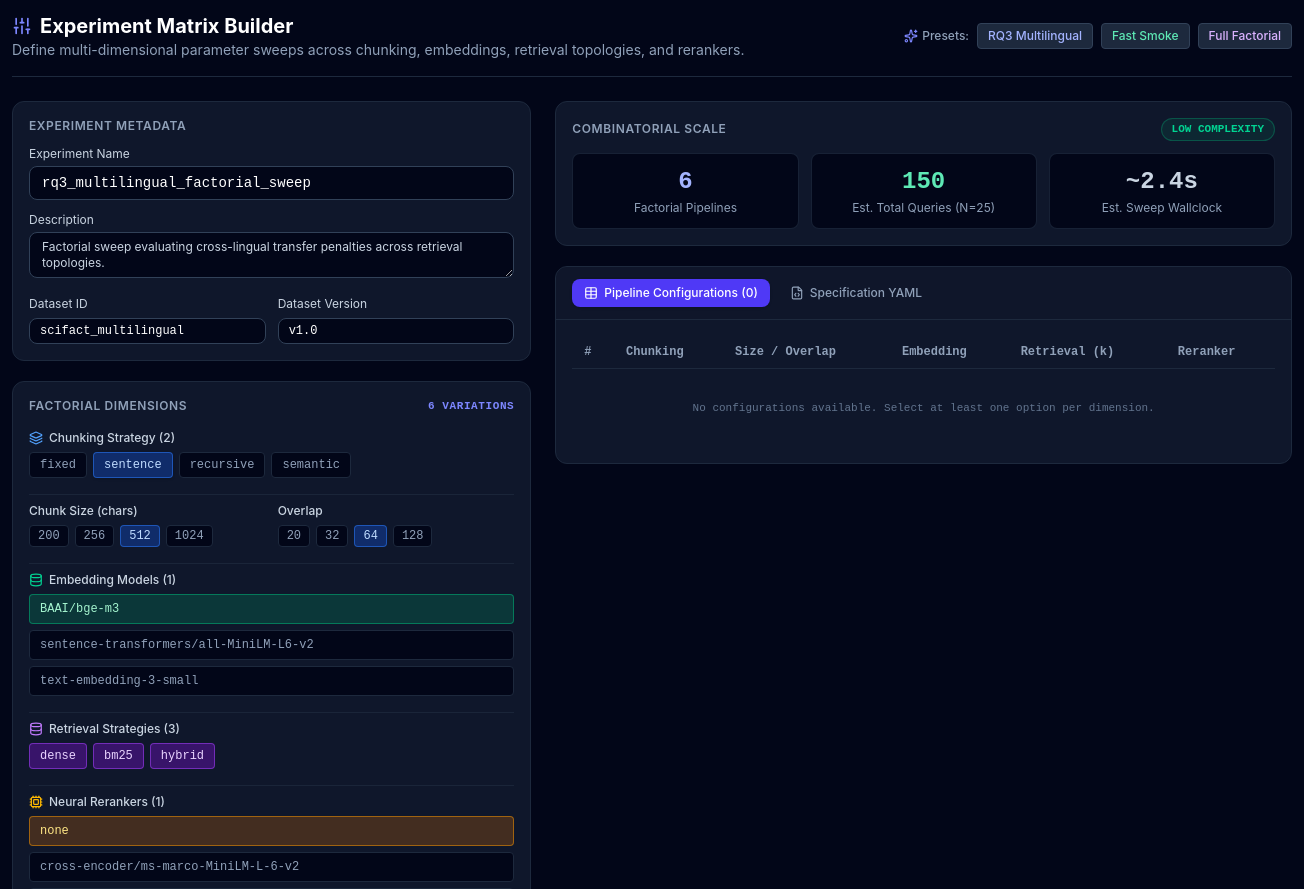
Test: MatrixBuilderView › switches between configuration table preview and specification YAML
The width and height of the screenshot is (1304, 889).
Click the button "Specification YAML" at (856, 292), box [778, 278, 934, 306]
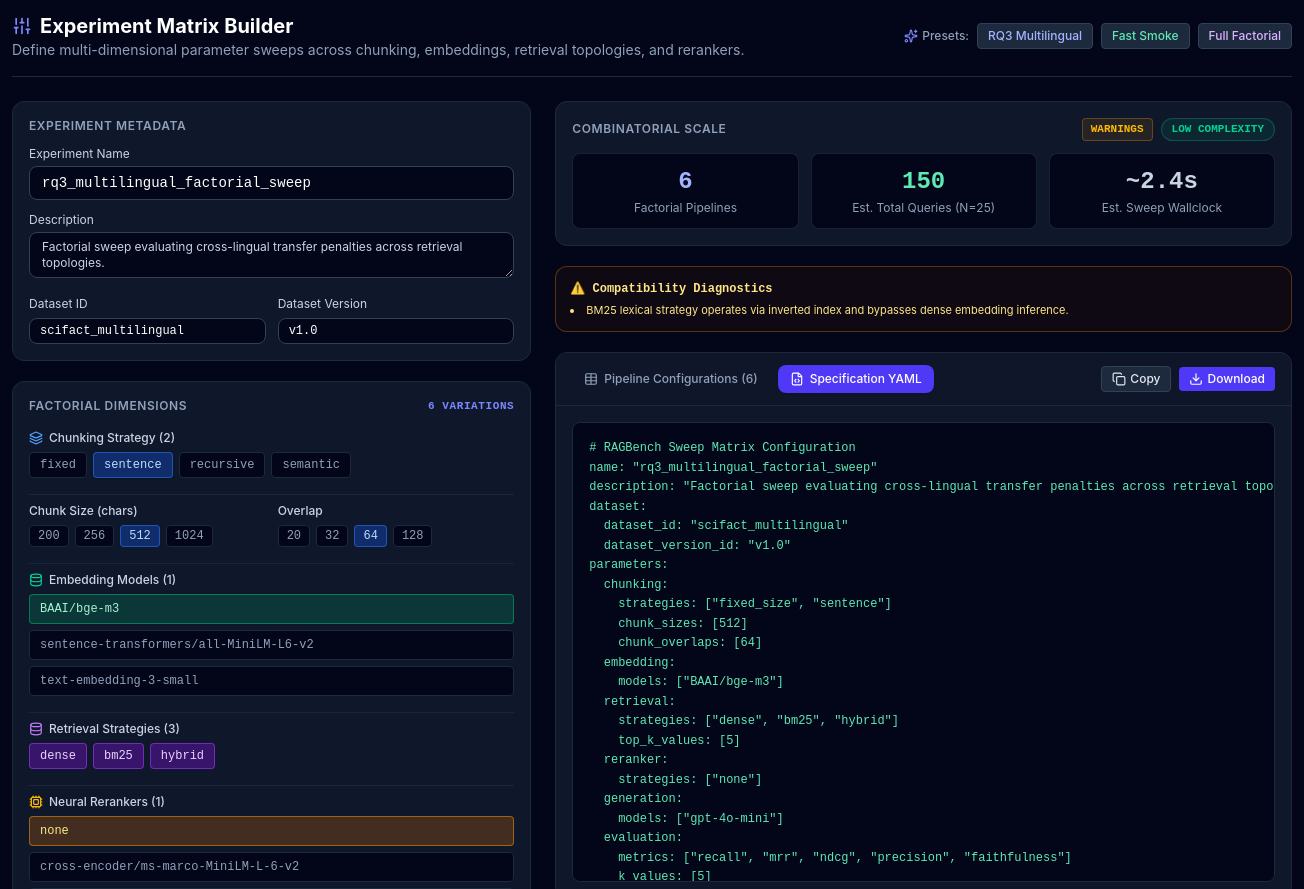
Expected: the button "Copy" is shown, [1101, 366, 1171, 392]
Expected: the button "Download" is shown, [1180, 367, 1275, 391]
